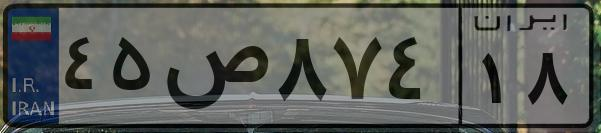1: (475, 38, 525, 113)
4: (385, 28, 445, 110), (57, 26, 110, 100)
5: (110, 28, 158, 98)
7: (330, 28, 385, 110)
8: (270, 28, 330, 110), (525, 38, 570, 115)
ص: (158, 20, 270, 120)
